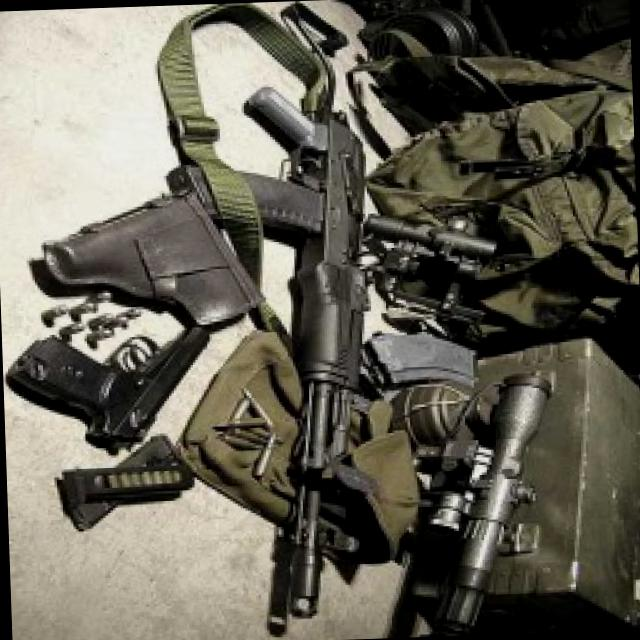long weapon: (214, 62, 380, 636)
